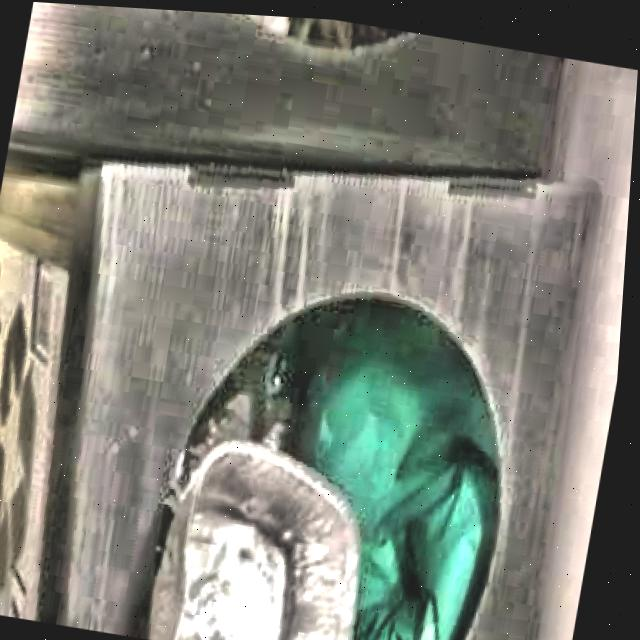metal: (180, 436, 367, 640)
